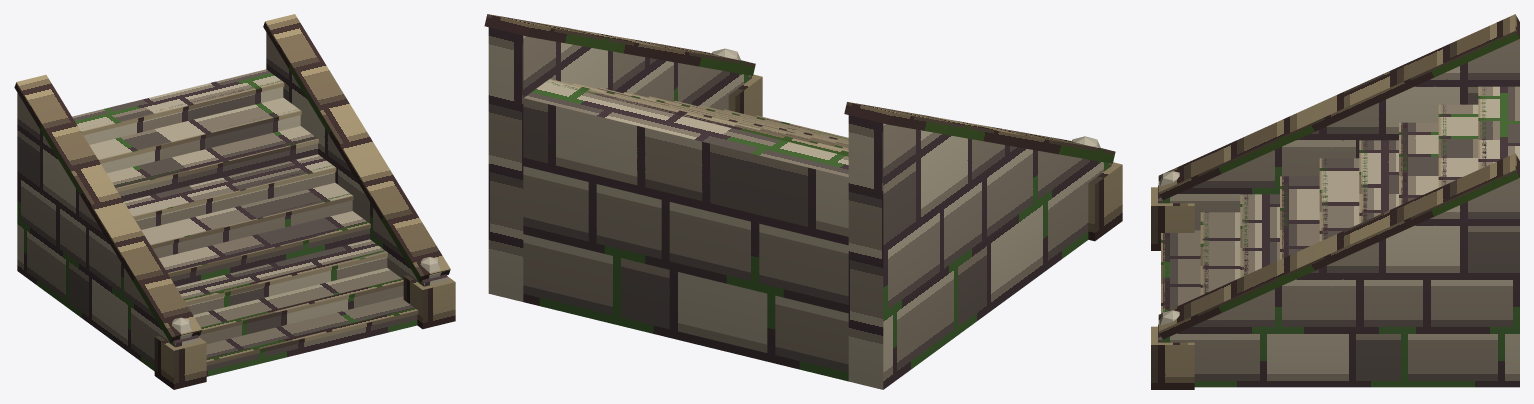
File: scene_stair_lumenvale.glb
The picture shows the model from 3 angles, left to right: view 1: azimuth 30°, elevation 25°; view 2: azimuth 150°, elevation 25°; view 3: azimuth 270°, elevation 25°; orthographic projection. The views are drawn at different scales.
Visible parts, largest first — view 1: scene_stair_lumenvale; view 2: scene_stair_lumenvale; view 3: scene_stair_lumenvale.
Boxes of the visible parts, bbox=[...] form: scene_stair_lumenvale: bbox=[14, 14, 455, 389]; scene_stair_lumenvale: bbox=[484, 14, 1122, 389]; scene_stair_lumenvale: bbox=[1151, 14, 1519, 389].
Bounding box in the file's own units: 3.76 × 2.44 × 3.72.
Materials: 2 (1 with a texture image).
